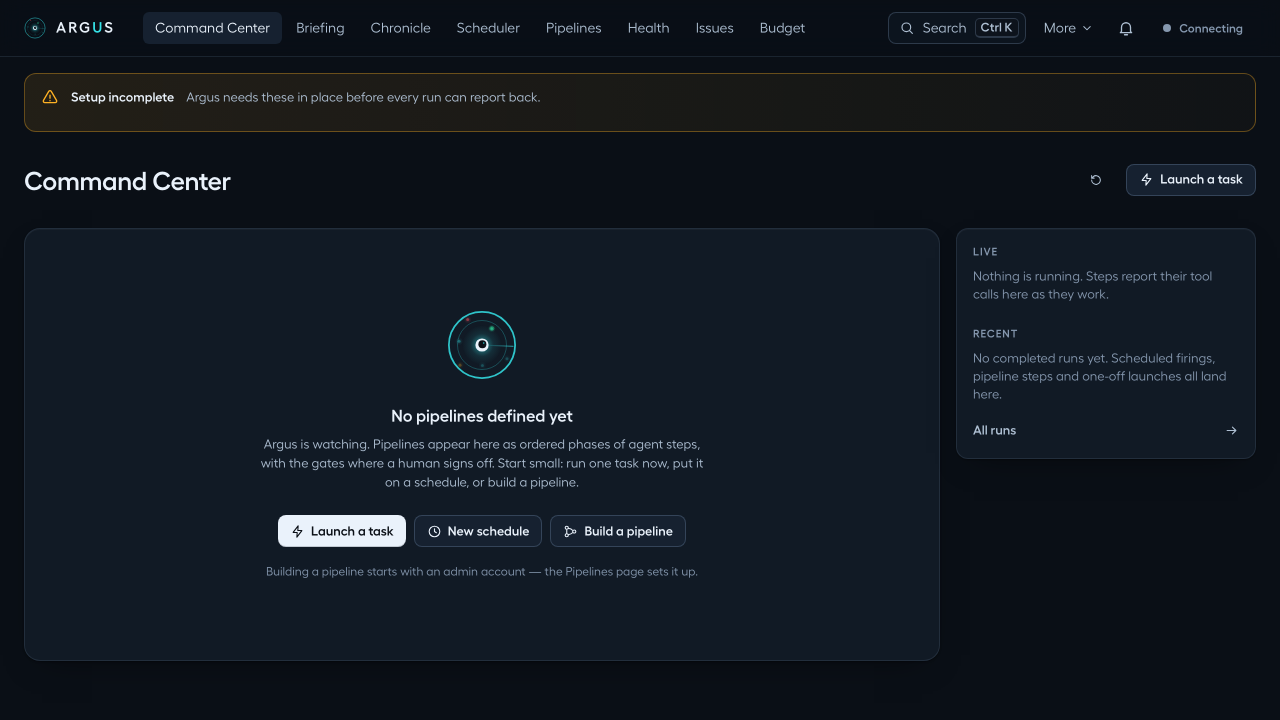
the command palette › reaches Agents, which has no tab
Click the button with aria-label "command palette" at (957, 28), box 888,12 -> 1026,44
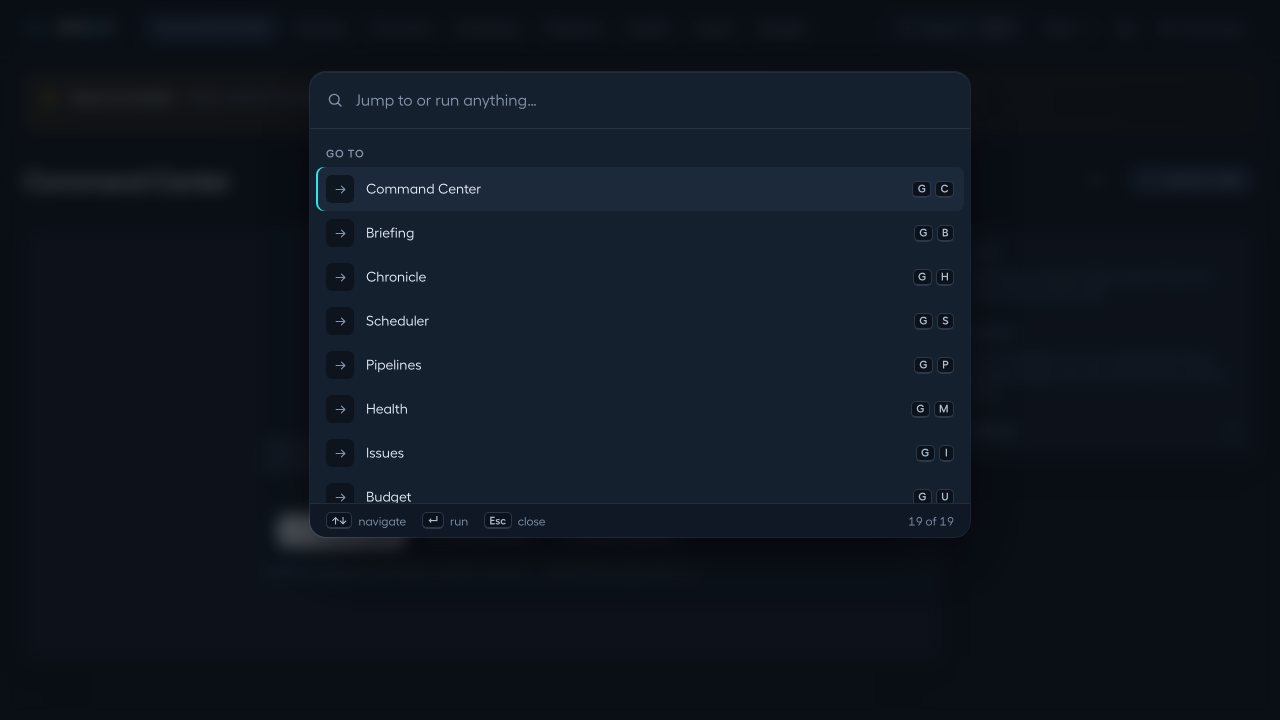
Type "agents" into the dropdown at (655, 100), box 356,72 -> 954,128
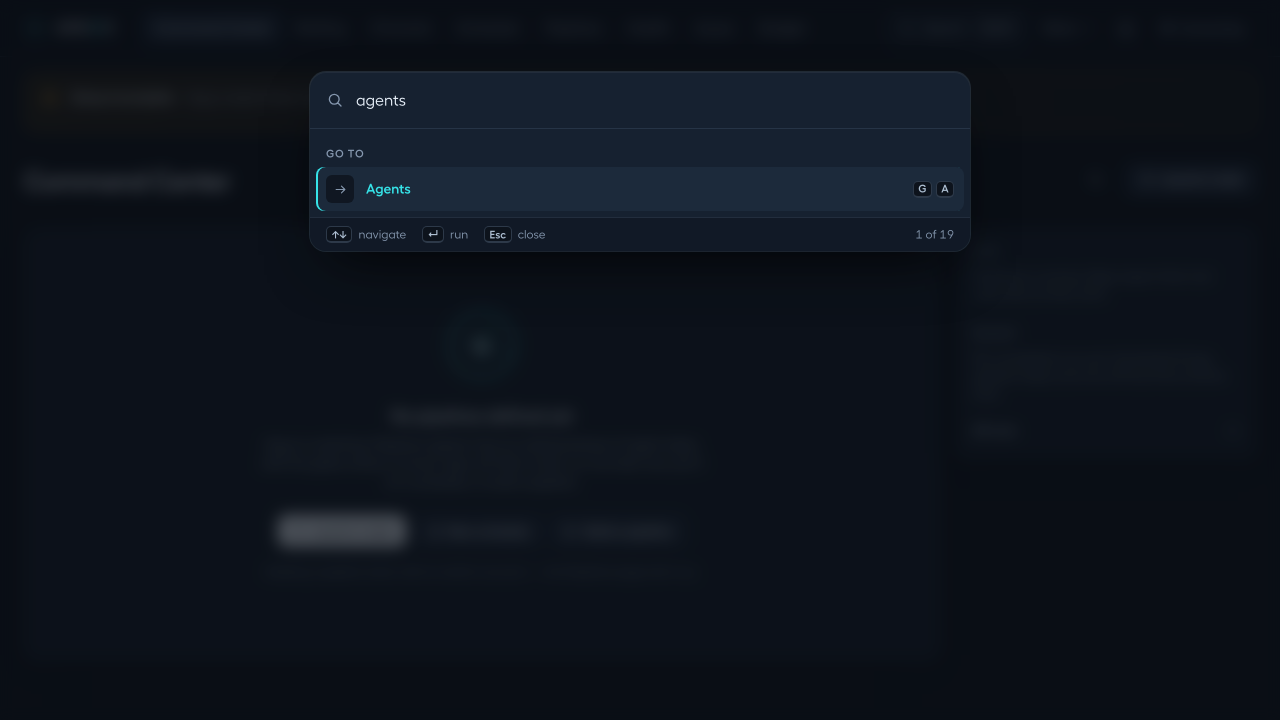
Expected: the option "Agents G A" is shown, 316,167 -> 964,211
